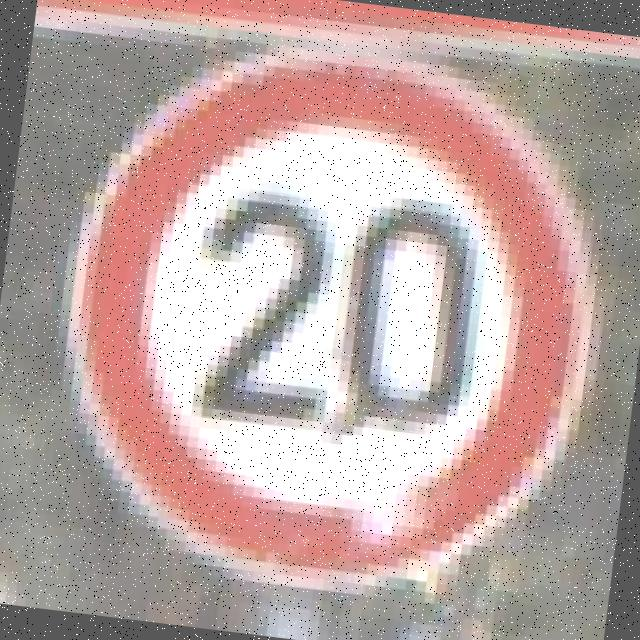Ograniczenie predkosci do 20: (0, 19, 640, 634)
